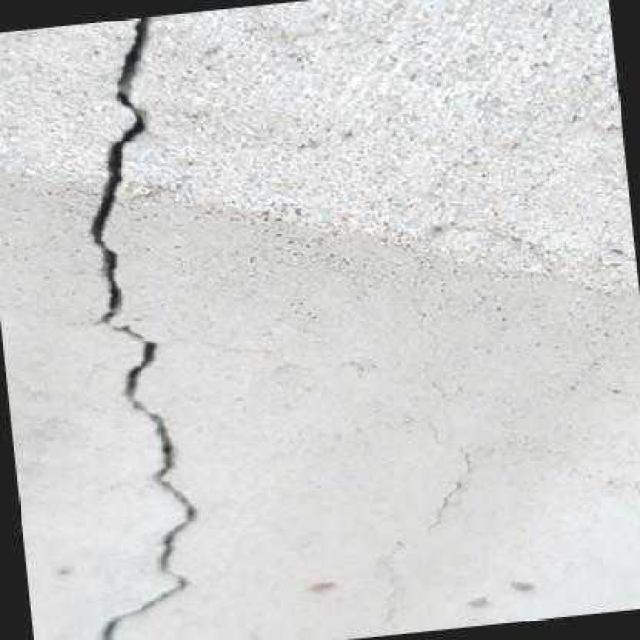D00: (89, 16, 196, 640)
